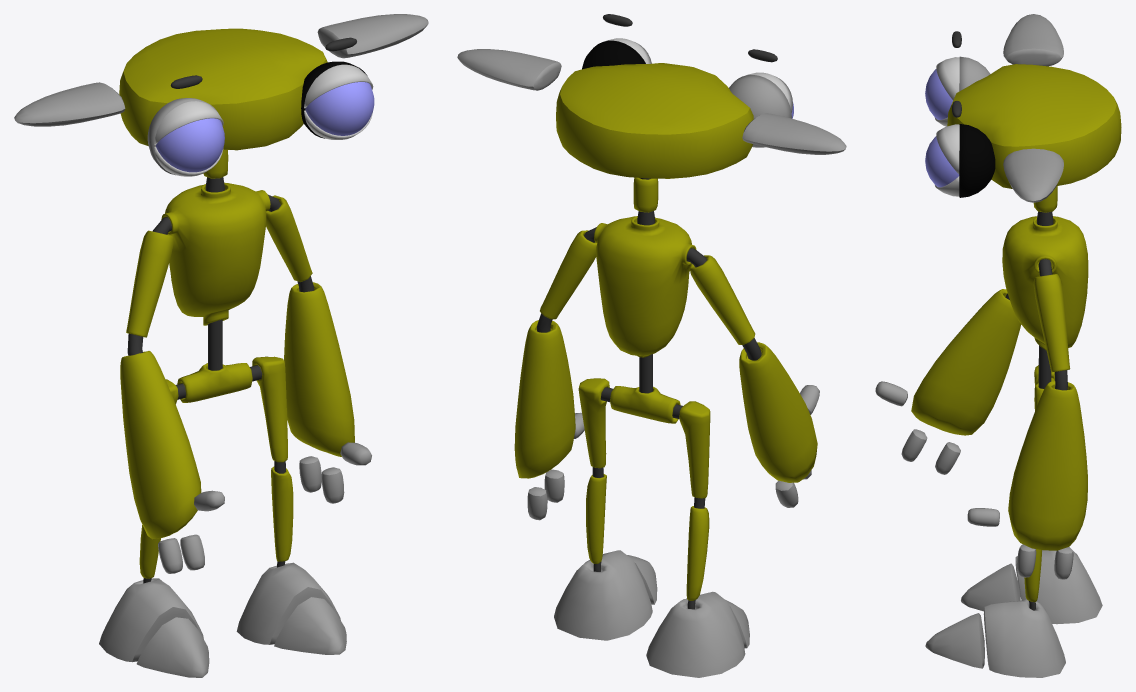
The model's file is walk_start1.obj.
3 views of the same model, side by side, from view 1: azimuth 30°, elevation 25°; view 2: azimuth 150°, elevation 25°; view 3: azimuth 270°, elevation 25° (orthographic). The views are drawn at different scales.
Parts seen in each view (by area): view 1: Mesh polySurface50, Mesh polySurface41, Mesh polySurface37, Mesh polySurface18, Mesh polySurface48, Mesh polySurface26, Mesh polySurface10, Mesh polySurface24, Mesh polySurface8, Mesh polySurface38, Mesh polySurface47, Mesh polySurface22 (+16 smaller); view 2: Mesh polySurface41, Mesh polySurface50, Mesh polySurface48, Mesh polySurface18, Mesh polySurface37, Mesh polySurface10, Mesh polySurface26, Mesh polySurface47, Mesh polySurface38, Mesh polySurface44, Mesh polySurface28, Mesh polySurface51 (+7 smaller); view 3: Mesh polySurface18, Mesh polySurface50, Mesh polySurface37, Mesh polySurface41, Mesh polySurface10, Mesh polySurface48, Mesh polySurface26, Mesh polySurface44, Mesh polySurface51, Mesh polySurface4, Mesh polySurface8, Mesh polySurface47 (+15 smaller).
Part boxes in pixels (x1=…): Mesh polySurface50: x1=123, y1=28, x2=325, y2=104; Mesh polySurface41: x1=161, y1=182, x2=270, y2=325; Mesh polySurface37: x1=120, y1=351, x2=201, y2=539; Mesh polySurface18: x1=284, y1=282, x2=354, y2=456; Mesh polySurface48: x1=119, y1=53, x2=327, y2=150; Mesh polySurface26: x1=99, y1=578, x2=203, y2=661; Mesh polySurface10: x1=236, y1=562, x2=340, y2=644; Mesh polySurface24: x1=136, y1=617, x2=209, y2=677; Mesh polySurface8: x1=274, y1=597, x2=346, y2=654; Mesh polySurface38: x1=126, y1=230, x2=173, y2=337; Mesh polySurface47: x1=14, y1=82, x2=125, y2=123; Mesh polySurface22: x1=156, y1=118, x2=224, y2=172; Mesh polySurface41: x1=594, y1=216, x2=696, y2=357; Mesh polySurface50: x1=560, y1=63, x2=749, y2=134; Mesh polySurface48: x1=556, y1=87, x2=753, y2=178; Mesh polySurface18: x1=514, y1=320, x2=575, y2=478; Mesh polySurface37: x1=739, y1=342, x2=817, y2=482; Mesh polySurface10: x1=554, y1=550, x2=652, y2=640; Mesh polySurface26: x1=646, y1=591, x2=745, y2=677; Mesh polySurface47: x1=742, y1=113, x2=846, y2=151; Mesh polySurface38: x1=690, y1=255, x2=755, y2=344; Mesh polySurface44: x1=457, y1=49, x2=559, y2=86; Mesh polySurface28: x1=679, y1=401, x2=710, y2=498; Mesh polySurface51: x1=540, y1=230, x2=597, y2=319; Mesh polySurface18: x1=1008, y1=381, x2=1087, y2=550; Mesh polySurface50: x1=951, y1=64, x2=1116, y2=146; Mesh polySurface37: x1=911, y1=289, x2=1021, y2=435; Mesh polySurface41: x1=1002, y1=216, x2=1088, y2=350; Mesh polySurface10: x1=984, y1=599, x2=1065, y2=677; Mesh polySurface48: x1=947, y1=99, x2=1121, y2=188; Mesh polySurface26: x1=1015, y1=550, x2=1102, y2=624; Mesh polySurface44: x1=1003, y1=148, x2=1063, y2=201; Mesh polySurface51: x1=1033, y1=274, x2=1070, y2=372; Mesh polySurface4: x1=959, y1=124, x2=995, y2=197; Mesh polySurface8: x1=925, y1=613, x2=982, y2=668; Mesh polySurface47: x1=1003, y1=14, x2=1063, y2=57.
Size of the model in its own units: 10.05 by 14.31 by 5.63.
